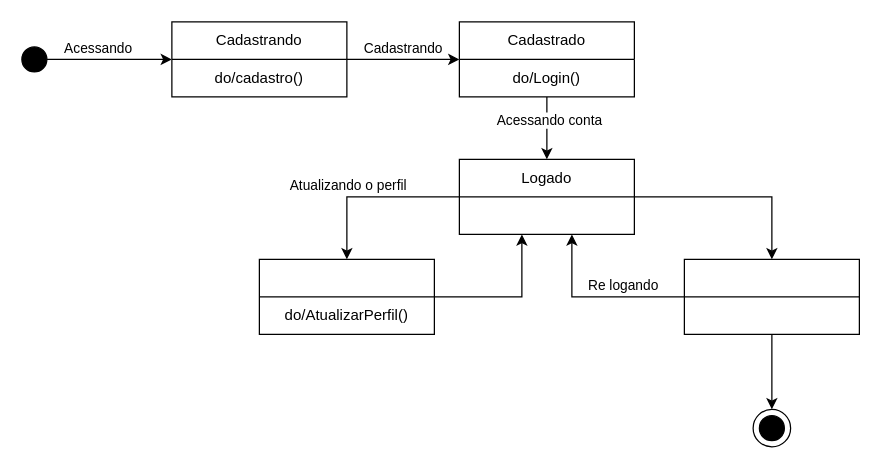
The diagram is 881 pixels wide and 469 high, and some of its shapes have lost their labels. Each missing label, with the box of its shape:
Atualizando perfil: (258, 258, 434, 334)
Deslogado: (683, 258, 859, 334)
